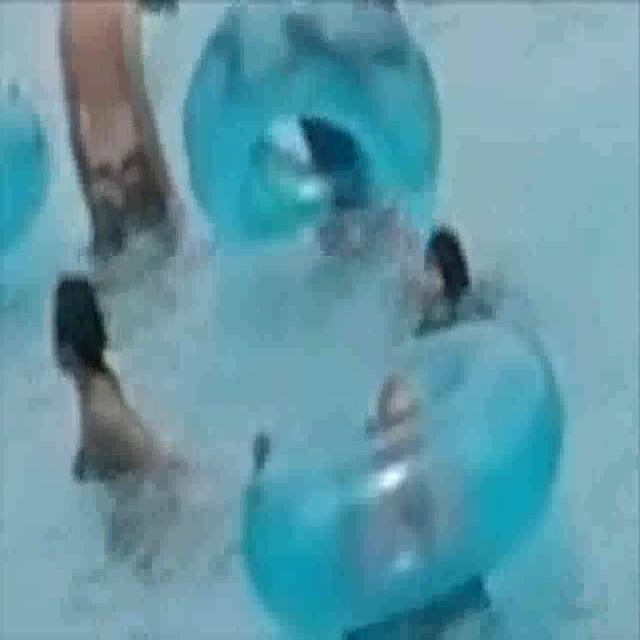Out of Water: (382, 223, 520, 328)
swimming: (24, 264, 201, 552)
